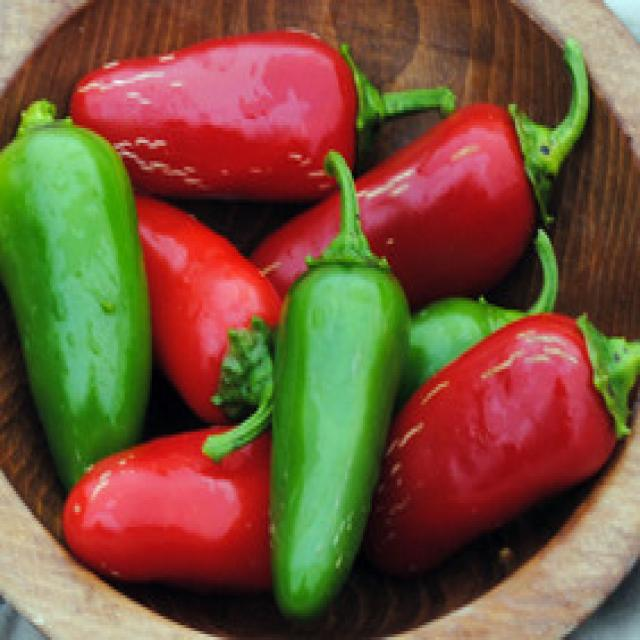aji: (12, 31, 633, 586)
